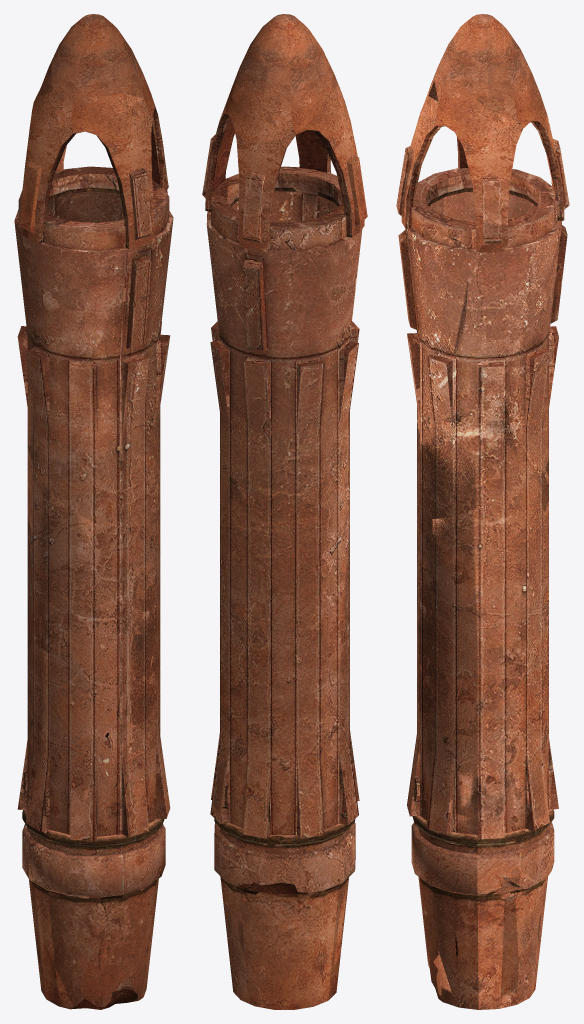
Rendered from broken_tower.fbx.
3 views of the same model, side by side, from view 1: azimuth 30°, elevation 25°; view 2: azimuth 150°, elevation 25°; view 3: azimuth 270°, elevation 25° (orthographic).
Parts seen in each view (by area): view 1: Fire_Tower, Fire_Tower_cell.001, Fire_Tower_cell.002, Fire_Tower_cell.011, Fire_Tower_cell.010, Fire_Tower_cell.004, Fire_Tower_cell.008, Fire_Tower_cell.019; view 2: Fire_Tower, Fire_Tower_cell.003, Fire_Tower_cell.019, Fire_Tower_cell.008, Fire_Tower_cell.010, Fire_Tower_cell.001, Fire_Tower_cell.002, Fire_Tower_cell.011, Fire_Tower_cell.007, Fire_Tower_cell.018, Fire_Tower_cell.006, Fire_Tower_cell.015; view 3: Fire_Tower, Fire_Tower_cell.001, Fire_Tower_cell.011, Fire_Tower_cell.002, Fire_Tower_cell.010, Fire_Tower_cell.004, Fire_Tower_cell.003, Fire_Tower_cell.019, Fire_Tower_cell.008, Fire_Tower_cell.015, Fire_Tower_cell.005, Fire_Tower_cell.018 (+2 smaller).
Boxes of the visible parts, x1,y1,x2,y2 form: Fire_Tower: [14, 14, 173, 1007]; Fire_Tower_cell.001: [19, 626, 167, 814]; Fire_Tower_cell.002: [27, 447, 160, 663]; Fire_Tower_cell.011: [17, 789, 170, 960]; Fire_Tower_cell.010: [27, 340, 167, 528]; Fire_Tower_cell.004: [42, 933, 152, 1009]; Fire_Tower_cell.008: [51, 14, 142, 115]; Fire_Tower_cell.019: [55, 187, 173, 355]; Fire_Tower: [204, 14, 367, 1009]; Fire_Tower_cell.003: [225, 52, 329, 142]; Fire_Tower_cell.019: [228, 166, 341, 222]; Fire_Tower_cell.008: [244, 14, 337, 89]; Fire_Tower_cell.010: [306, 321, 359, 476]; Fire_Tower_cell.001: [270, 635, 356, 806]; Fire_Tower_cell.002: [225, 465, 349, 643]; Fire_Tower_cell.011: [237, 794, 358, 959]; Fire_Tower_cell.007: [243, 258, 266, 350]; Fire_Tower_cell.018: [295, 130, 328, 172]; Fire_Tower_cell.006: [341, 184, 363, 237]; Fire_Tower_cell.015: [213, 760, 277, 838]; Fire_Tower: [396, 14, 569, 1009]; Fire_Tower_cell.001: [410, 632, 549, 822]; Fire_Tower_cell.011: [407, 781, 541, 967]; Fire_Tower_cell.002: [417, 472, 548, 650]; Fire_Tower_cell.010: [407, 333, 518, 518]; Fire_Tower_cell.004: [424, 926, 518, 1009]; Fire_Tower_cell.003: [476, 42, 547, 125]; Fire_Tower_cell.019: [407, 171, 469, 354]; Fire_Tower_cell.008: [428, 14, 515, 101]; Fire_Tower_cell.015: [525, 746, 553, 834]; Fire_Tower_cell.005: [476, 217, 507, 252]; Fire_Tower_cell.018: [398, 155, 421, 228].
Bounding box in the file's own units: 672 × 4164 × 672.
